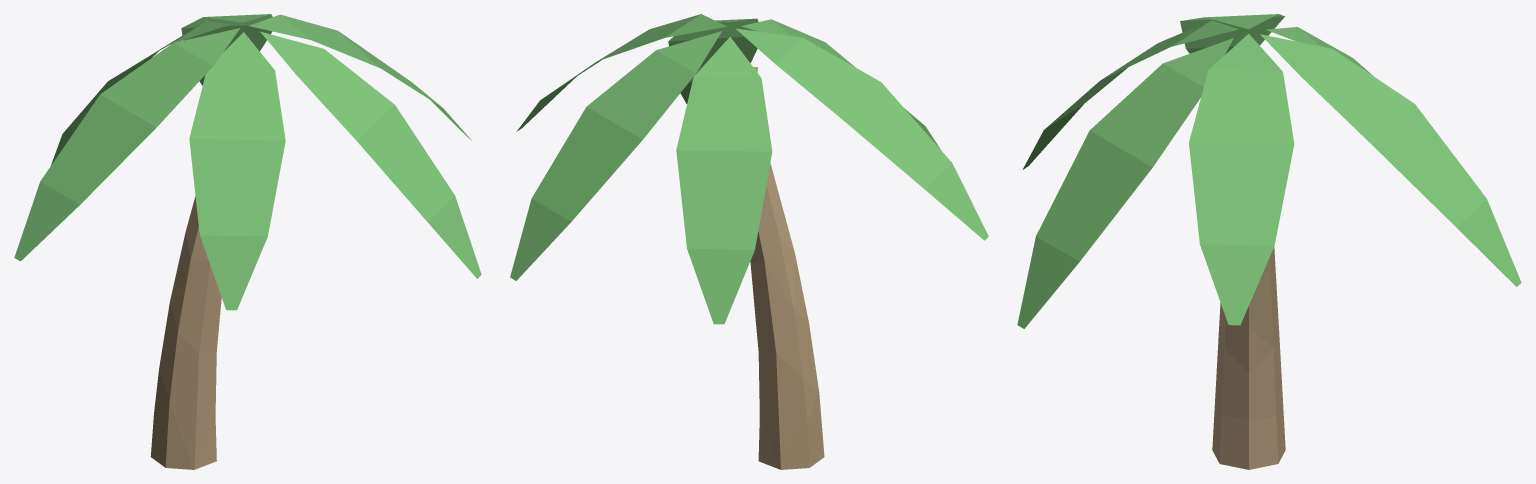
The model's file is 50-Vegetacion_palmera_joven.glb.
3 renders of one model, left to right at view 1: azimuth 30°, elevation 25°; view 2: azimuth 150°, elevation 25°; view 3: azimuth 270°, elevation 25°, orthographic. The views are drawn at different scales.
Parts seen in each view (by area): view 1: SM_Tronco_M_Hoja_PalmeraJoven, SM_Tronco_M_Tronco_PalmeraJoven; view 2: SM_Tronco_M_Hoja_PalmeraJoven, SM_Tronco_M_Tronco_PalmeraJoven; view 3: SM_Tronco_M_Hoja_PalmeraJoven, SM_Tronco_M_Tronco_PalmeraJoven.
Boxes of the visible parts, box(x1,y1,x2,y2) form: SM_Tronco_M_Hoja_PalmeraJoven: box(14, 14, 481, 310); SM_Tronco_M_Tronco_PalmeraJoven: box(150, 196, 221, 469); SM_Tronco_M_Hoja_PalmeraJoven: box(510, 14, 988, 324); SM_Tronco_M_Tronco_PalmeraJoven: box(750, 163, 824, 469); SM_Tronco_M_Hoja_PalmeraJoven: box(1017, 14, 1521, 328); SM_Tronco_M_Tronco_PalmeraJoven: box(1212, 247, 1285, 469).
Size of the model in its own units: 2.95 by 2.54 by 2.55.
